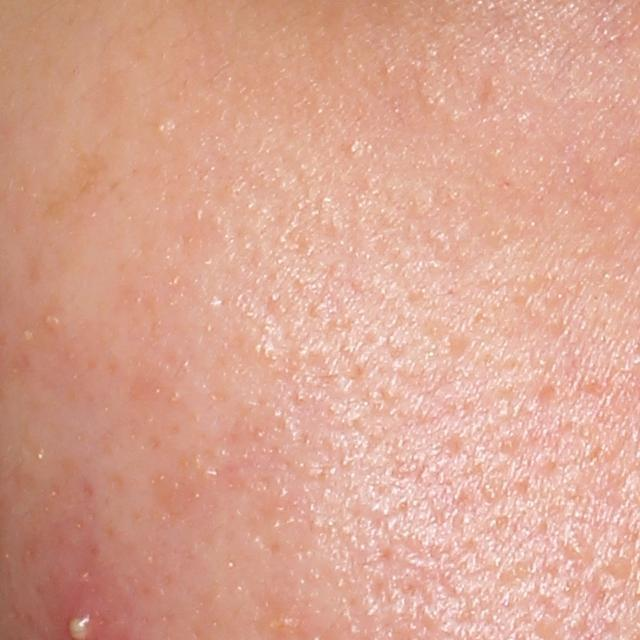comedo: (144, 108, 180, 143), (40, 314, 61, 331), (346, 141, 361, 156)
